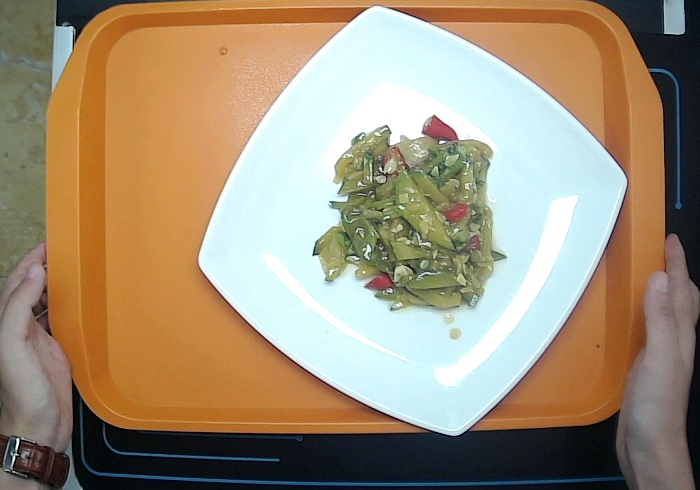ZNLD-Bai_Fang_Pan: (197, 3, 629, 439)
